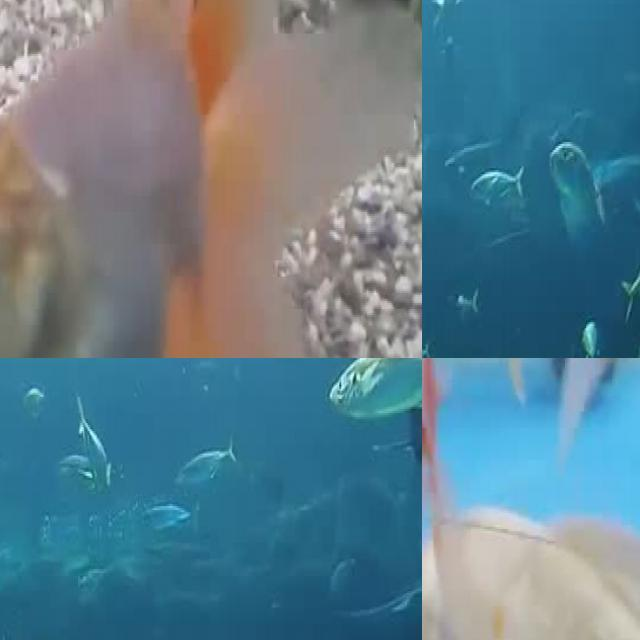fish: (0, 0, 422, 358), (307, 358, 422, 431)
